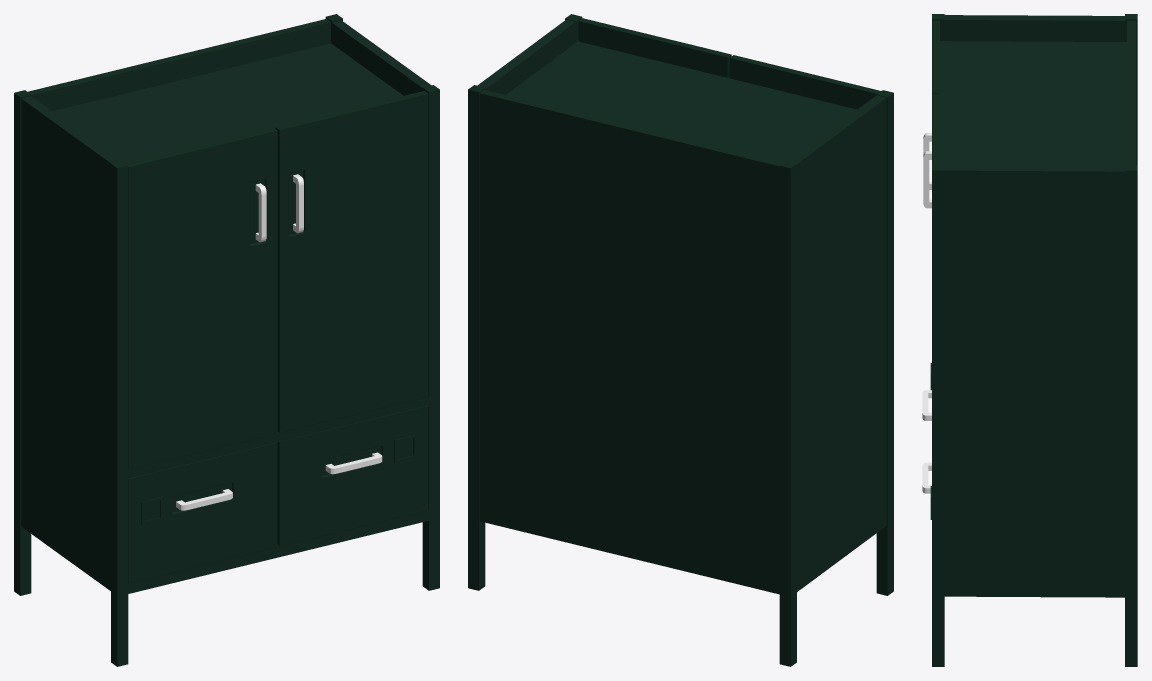
The model's file is SM_Living_Storage.fbx.
3 views of the same model, side by side, from view 1: azimuth 30°, elevation 25°; view 2: azimuth 150°, elevation 25°; view 3: azimuth 270°, elevation 25° (orthographic).
Visible parts, largest first — view 1: Storage_IDASEN Cabinet.001; view 2: Storage_IDASEN Cabinet.001; view 3: Storage_IDASEN Cabinet.001.
Part boxes in pixels (bbox=[...]): Storage_IDASEN Cabinet.001: bbox=[14, 14, 439, 666]; Storage_IDASEN Cabinet.001: bbox=[468, 14, 893, 666]; Storage_IDASEN Cabinet.001: bbox=[922, 14, 1137, 666].
Size of the model in its own units: 0.8017 by 0.4653 by 1.18.
